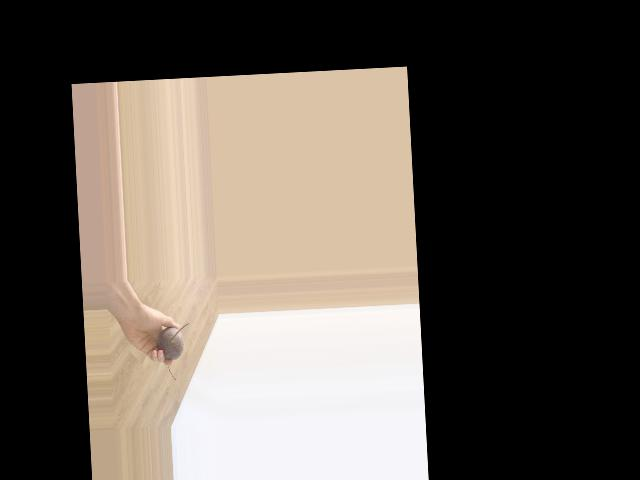beet: (156, 323, 191, 381)
